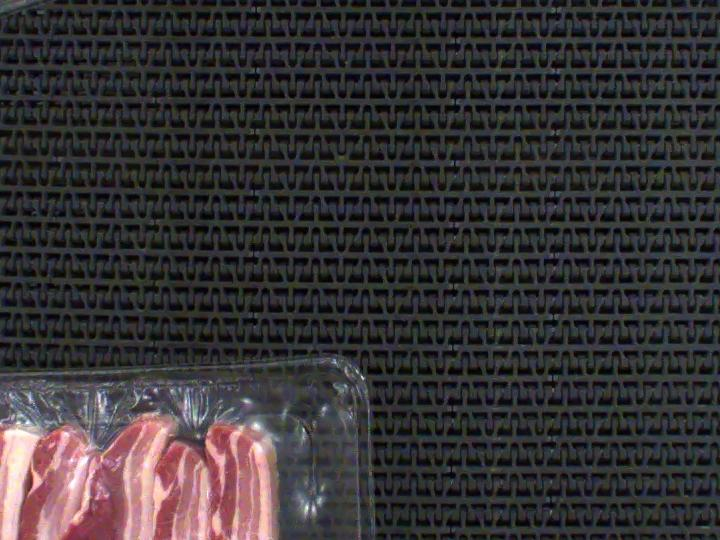unsealed: (0, 385, 348, 540)
